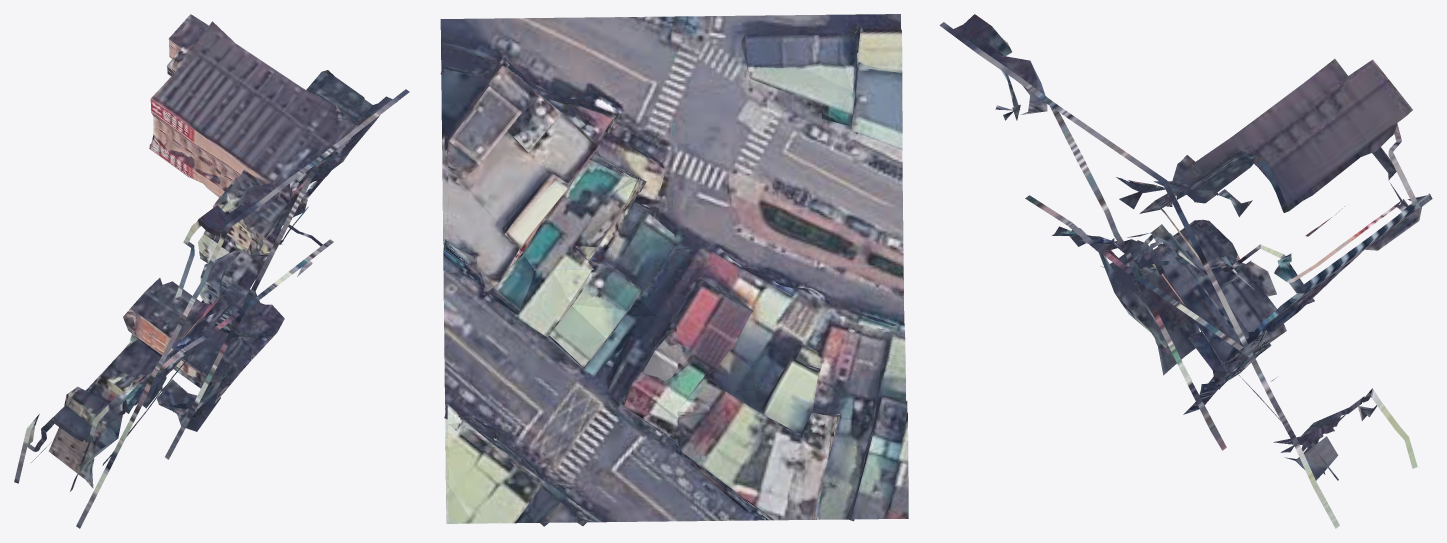
The picture shows the model from 3 angles, left to right: view 1: azimuth 30°, elevation 25°; view 2: azimuth 150°, elevation 25°; view 3: azimuth 270°, elevation 25°; orthographic projection. The views are drawn at different scales.
Bounding box in the file's own units: 83.39 × 78.51 × 78.92.
Materials: 1 (1 with a texture image).
